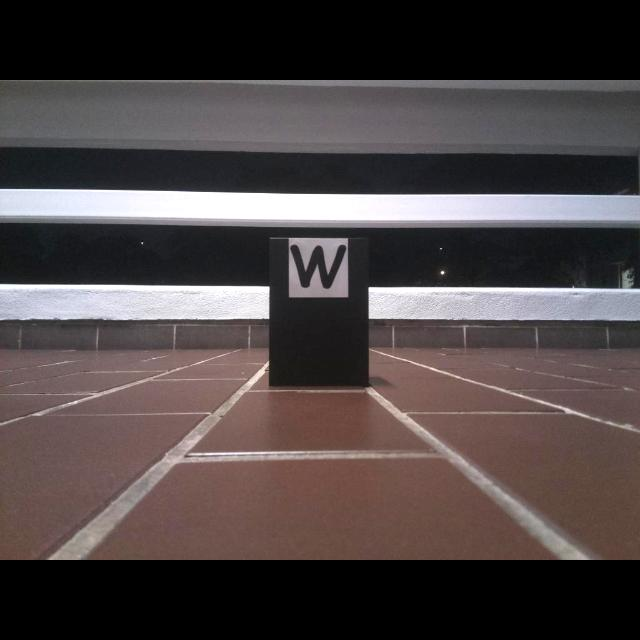W: (290, 243, 347, 290)
